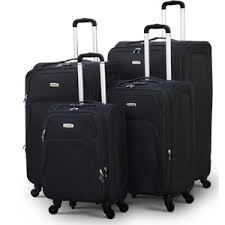suitcase: (107, 1, 213, 190), (24, 18, 120, 198), (108, 24, 197, 211), (43, 53, 130, 218)
